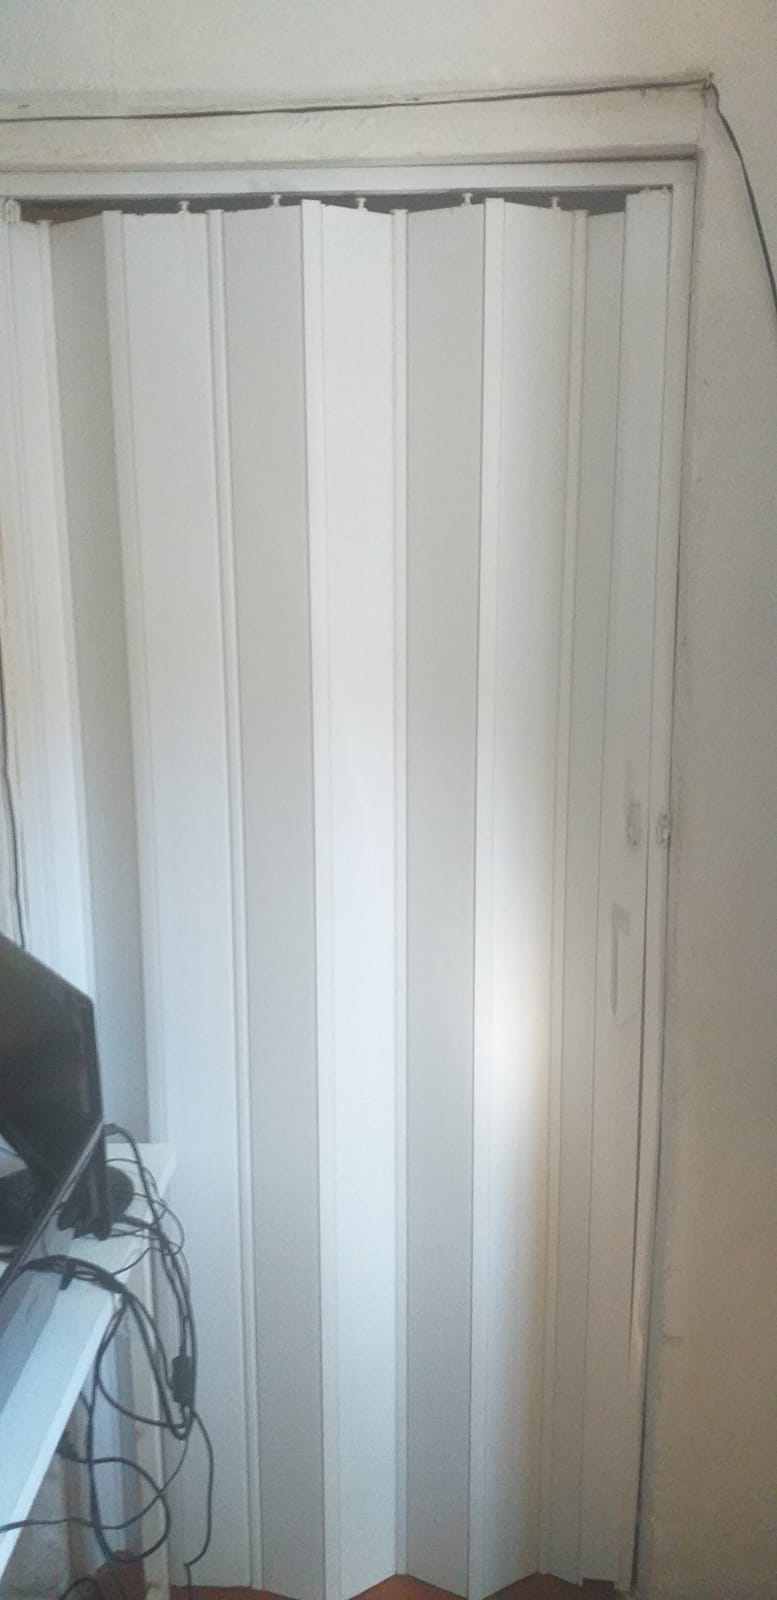door: (1, 148, 712, 1600)
